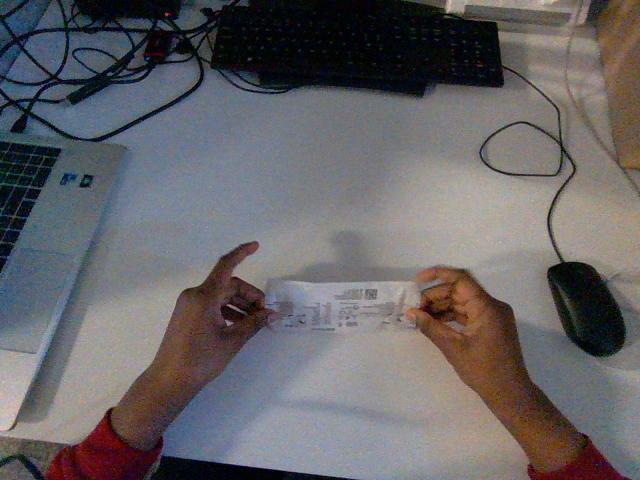syringe: (265, 279, 419, 331)
